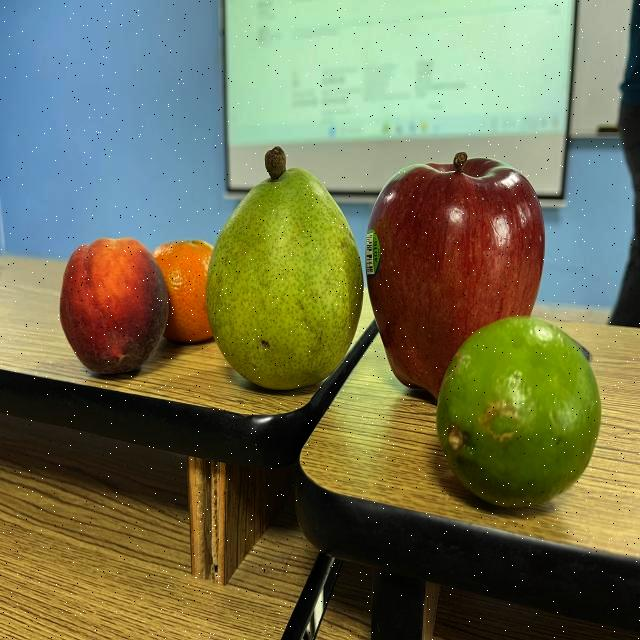Apel Merah: (366, 150, 546, 402)
Jeruk Mandarin: (149, 235, 234, 346)
Lemon: (434, 313, 604, 511)
Persik: (56, 234, 172, 381)
Pir: (204, 142, 365, 392)
